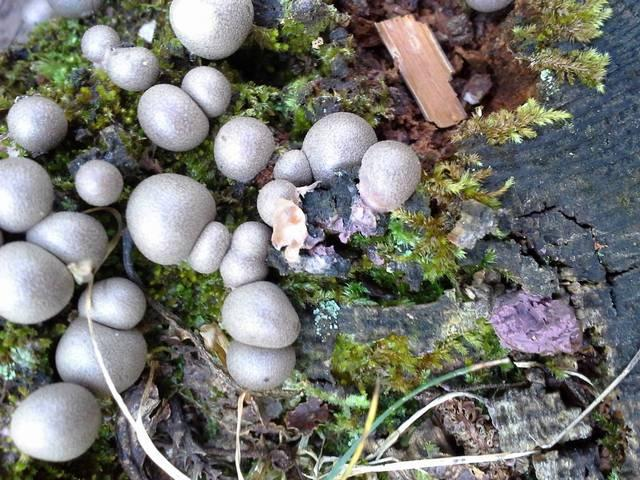Non-edible Mushroom: (1, 0, 426, 463), (124, 171, 217, 266), (54, 315, 148, 398), (9, 381, 102, 462), (0, 239, 74, 325), (25, 210, 109, 283), (301, 110, 377, 185), (219, 279, 301, 348), (167, 0, 254, 60), (136, 82, 209, 152), (356, 138, 421, 213), (212, 115, 275, 183), (5, 93, 68, 155), (225, 340, 296, 391), (73, 158, 123, 207)
